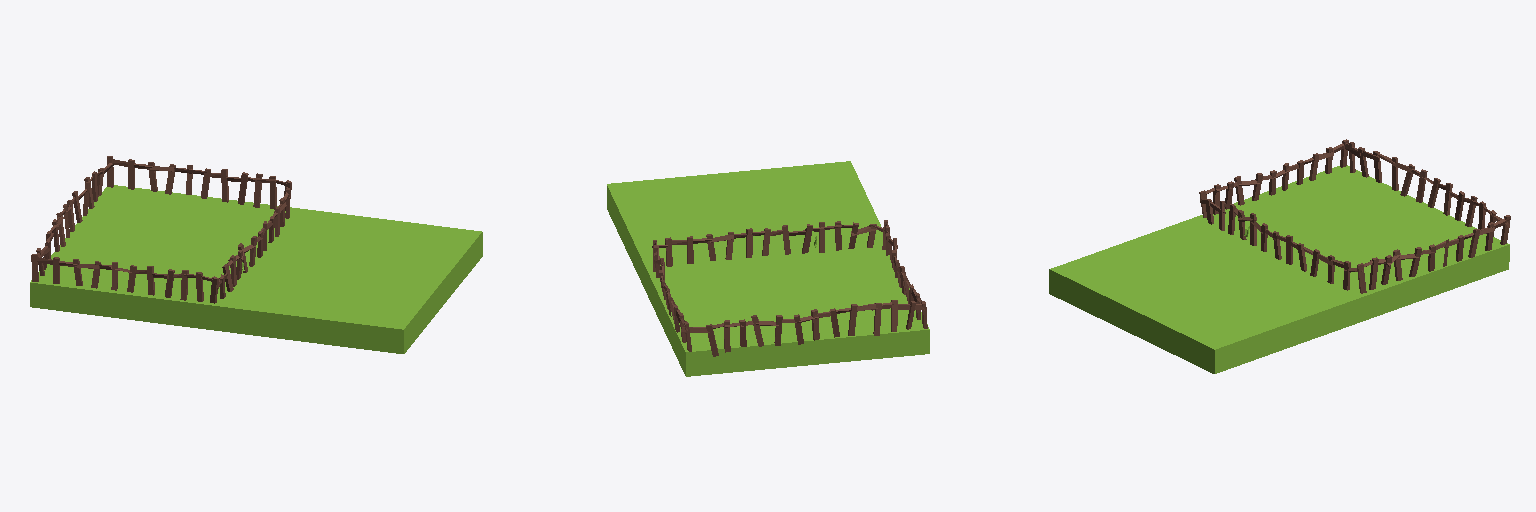
Rendered from farm.obj.
3 renders of one model, left to right at view 1: azimuth 30°, elevation 25°; view 2: azimuth 150°, elevation 25°; view 3: azimuth 270°, elevation 25°, orthographic.
Visible parts, largest first — view 1: group[number redacted]; view 2: group[number redacted]; view 3: group[number redacted].
Part boxes in pixels (left/top/right/bottom): group[number redacted]: left=30, top=156, right=482, bottom=353; group[number redacted]: left=607, top=161, right=929, bottom=376; group[number redacted]: left=1049, top=139, right=1510, bottom=373.
Bounding box in the file's own units: 1.76 × 0.2526 × 1.82.